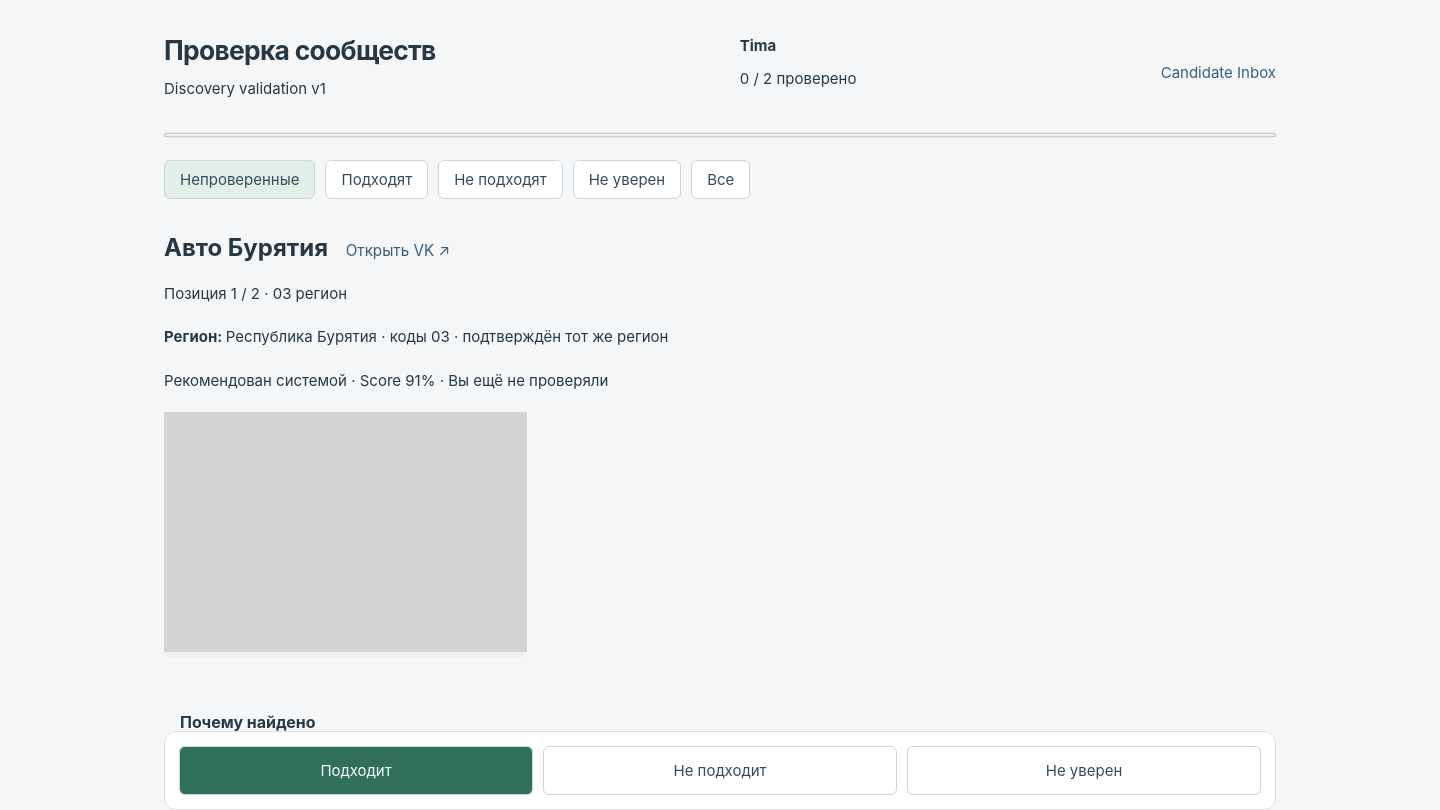
Test: saves approval then advances without adding a Grid row or creating submissions
Click the button "Подходит". click: point(356, 770)
box: [179,746,533,795]
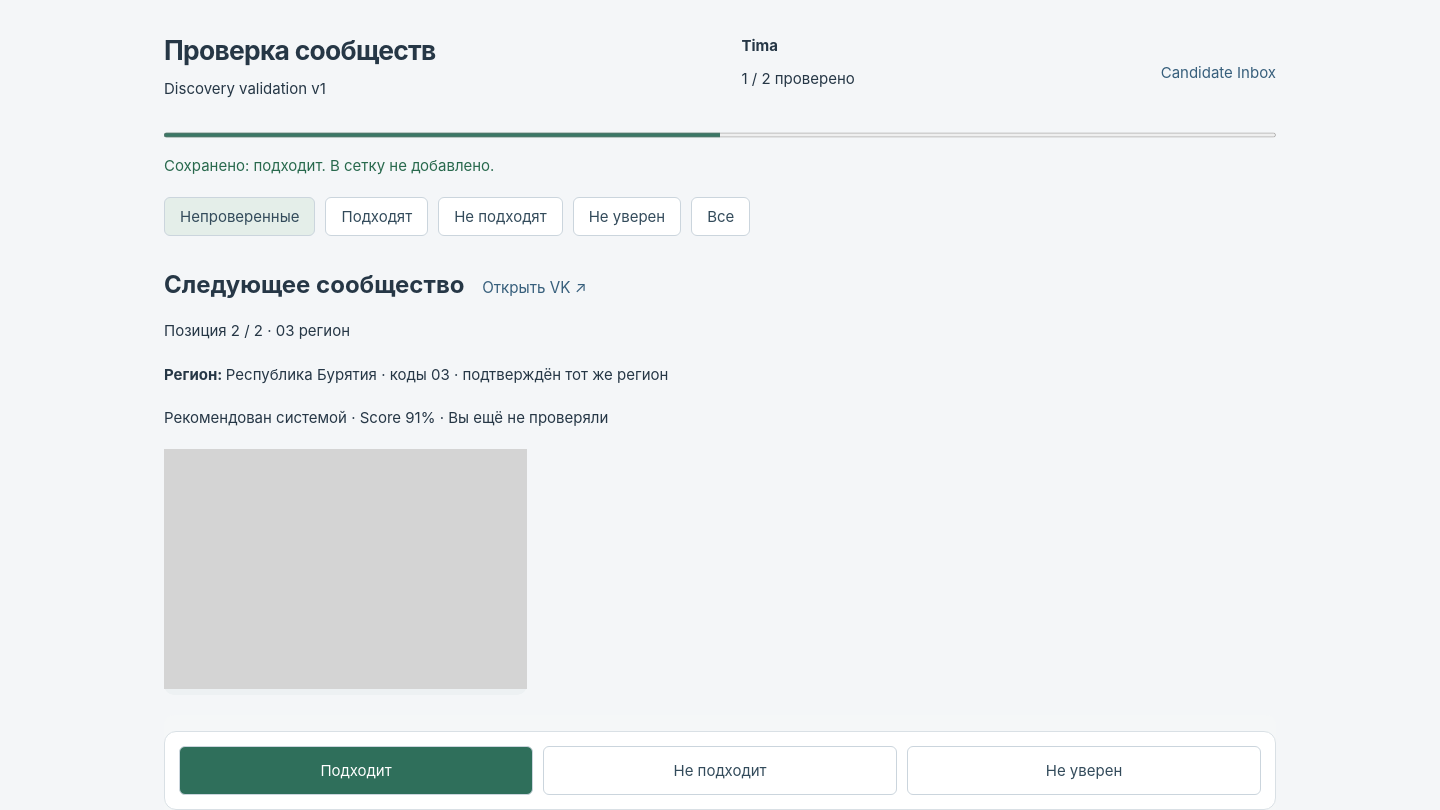
Result: the heading "Следующее сообщество Открыть VK ↗" is shown at [164,270,587,299]
Result: the message shows "В сетку не добавлено" at [164,156,494,174]
